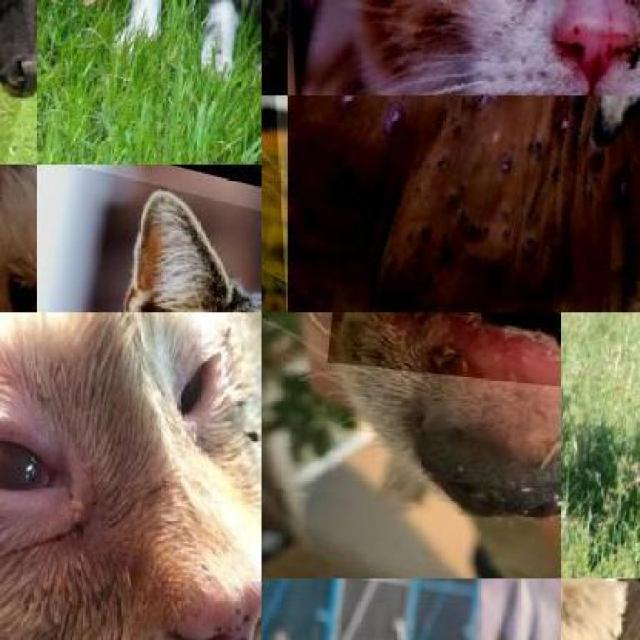buffalo: (560, 312, 640, 578)
cat: (0, 312, 262, 640), (287, 0, 640, 95), (37, 165, 261, 312)
cow: (287, 95, 640, 312)
dog: (262, 312, 560, 550)
injured: (391, 95, 575, 288), (326, 312, 560, 397), (288, 95, 364, 154), (0, 165, 37, 252)
